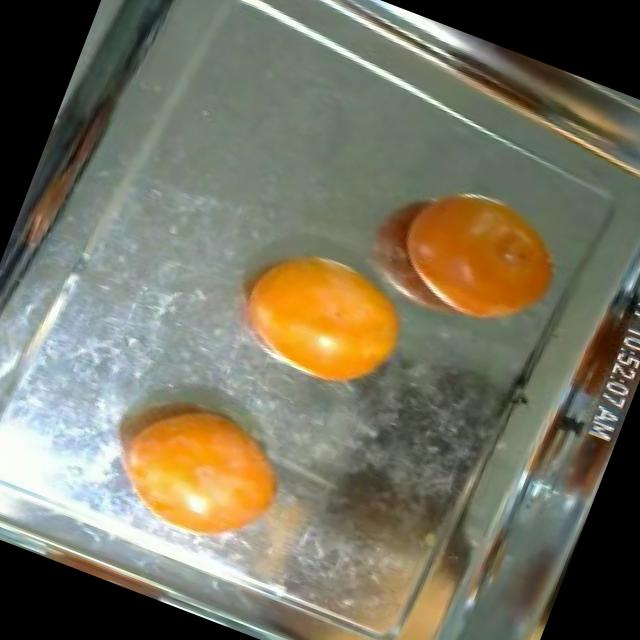Fruit: (74, 362, 316, 570), (358, 153, 592, 361), (202, 214, 440, 416)
